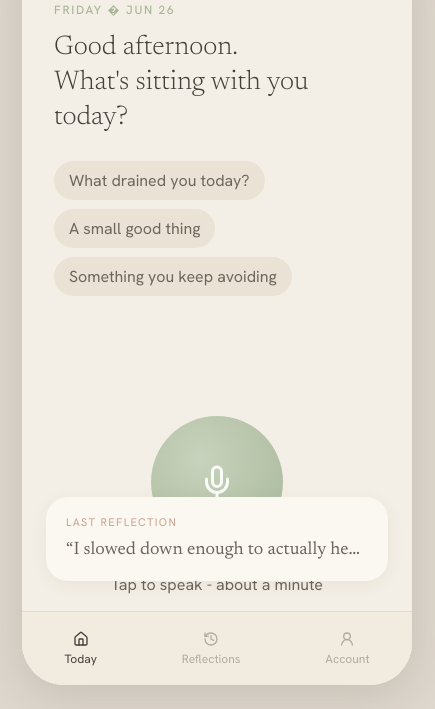
Test case: Echo app shell › confirms data wipe, signs out, and clears local reflections
The width and height of the screenshot is (435, 709).
(page scrolled)
Click the button "Account" at (347, 649), box [319,630,376,668]
(page scrolled)
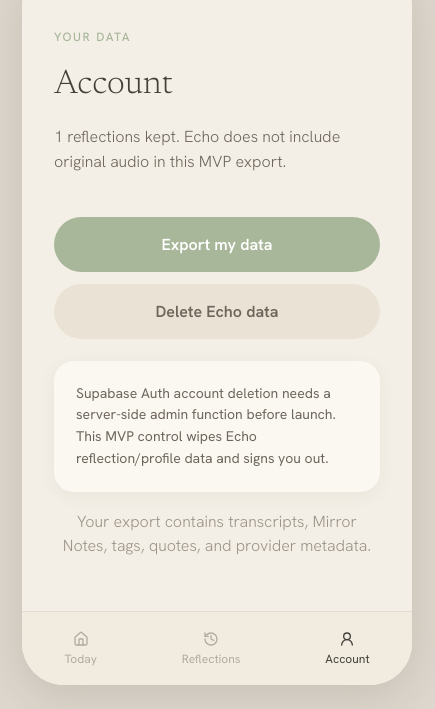
Click the button "Delete Echo data" at (217, 311), box [54,284,380,339]
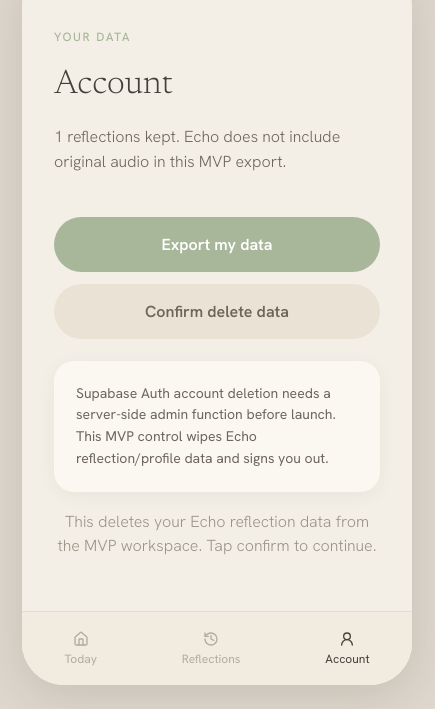
Click the button "Confirm delete data" at (217, 311), box [54,284,380,339]
(page scrolled)
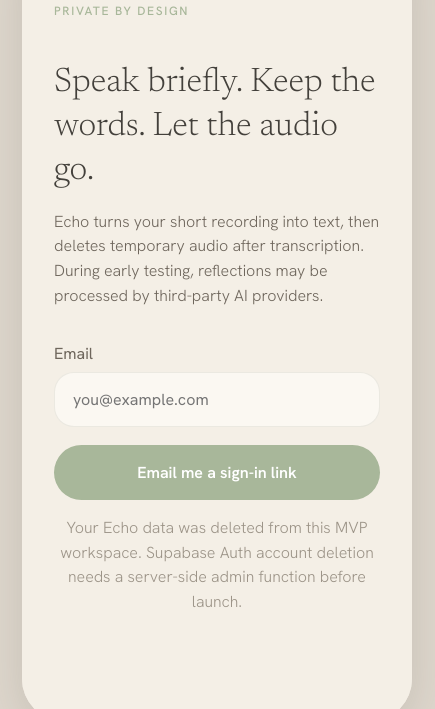
Result: the heading "Speak briefly. Keep the words. Let the audio go." is shown at [54,61,380,194]
